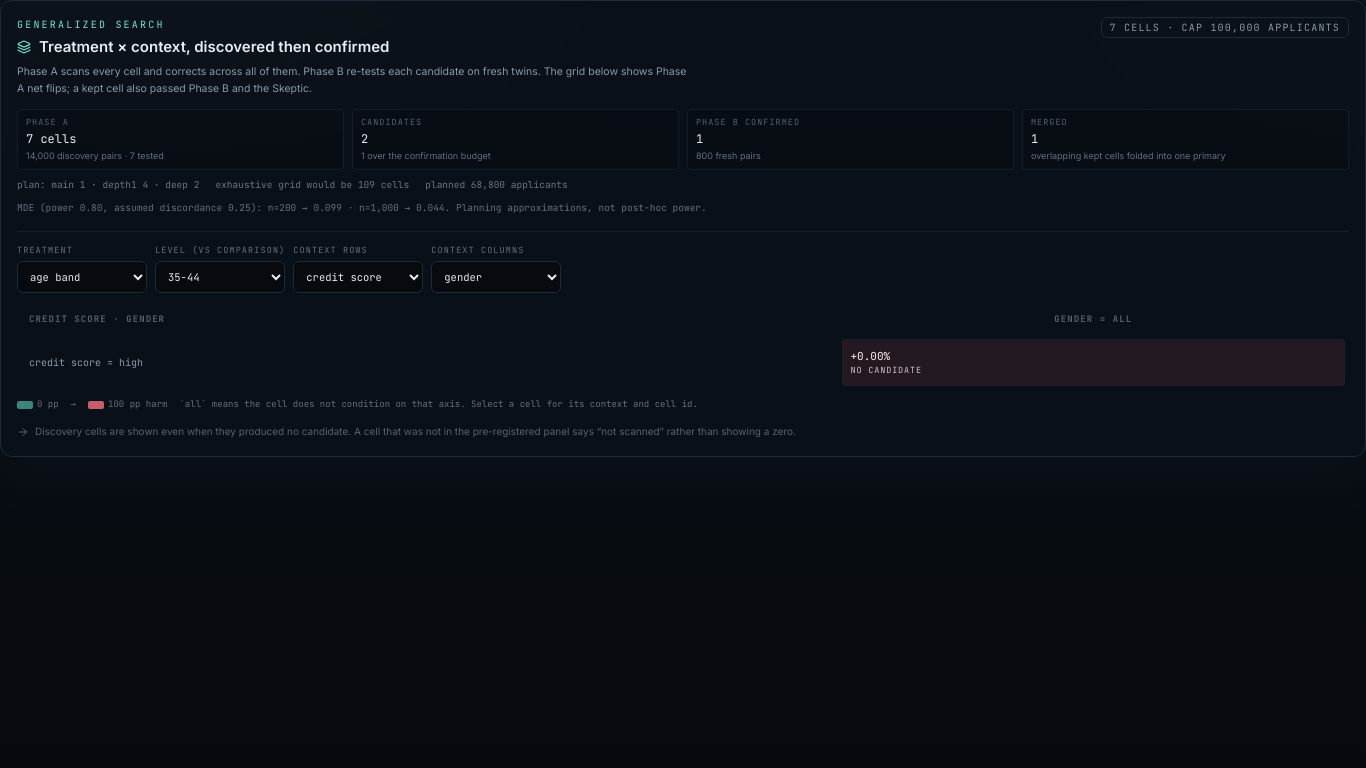
SearchPanel › shows the kept cell and counts the deeper cell that shares its coordinate
Step 1. Select "45+" in the dropdown labelled "level (vs comparison)" → (220, 277), box [155, 261, 285, 293]
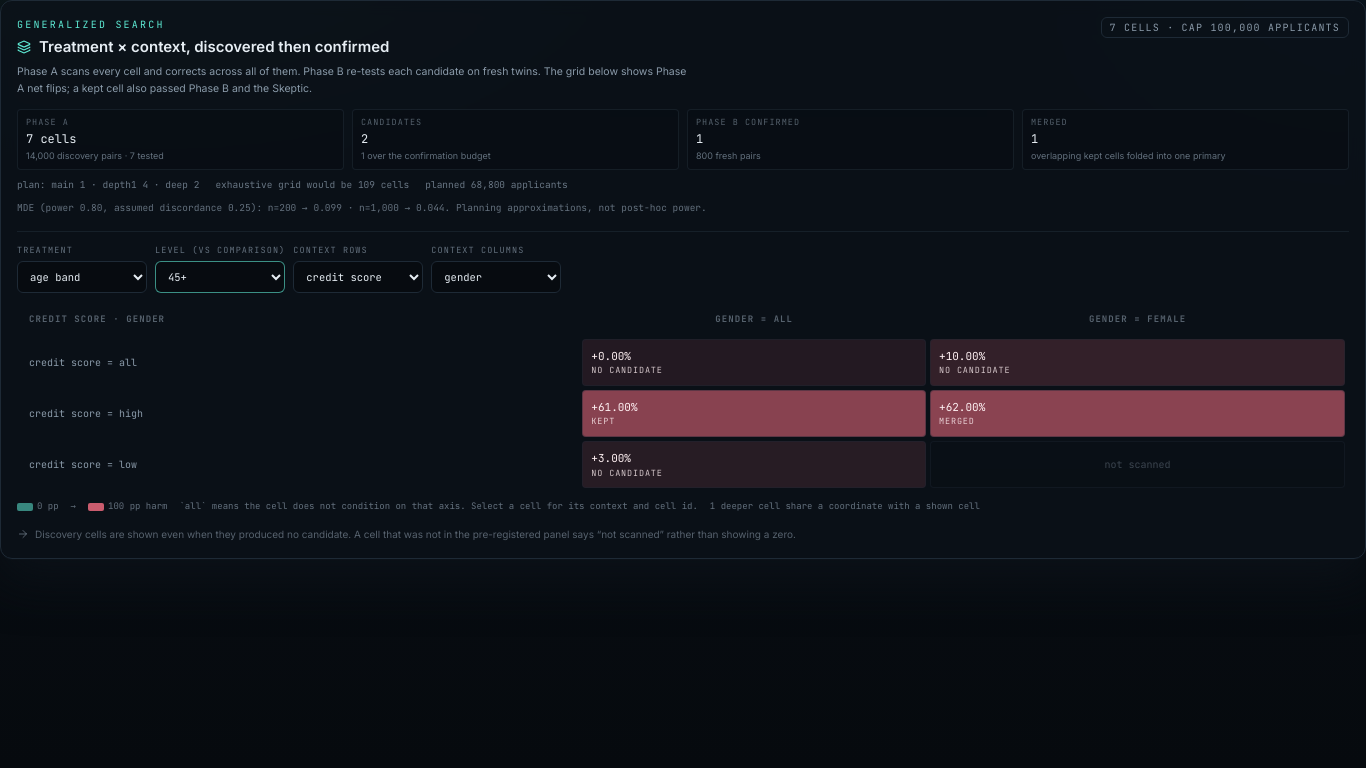
Expected: the text "+61.00%" is shown, [591, 400, 638, 414]
Expected: the text "+3.00%" is shown, [591, 451, 631, 465]
Expected: the text "1 deeper cell share a coordinate with a shown cell" is shown, [710, 500, 980, 514]
